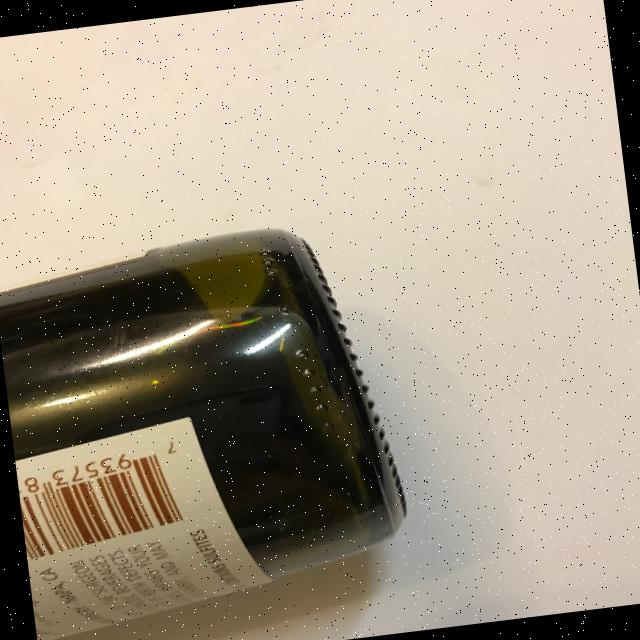glass: (0, 214, 419, 640)
